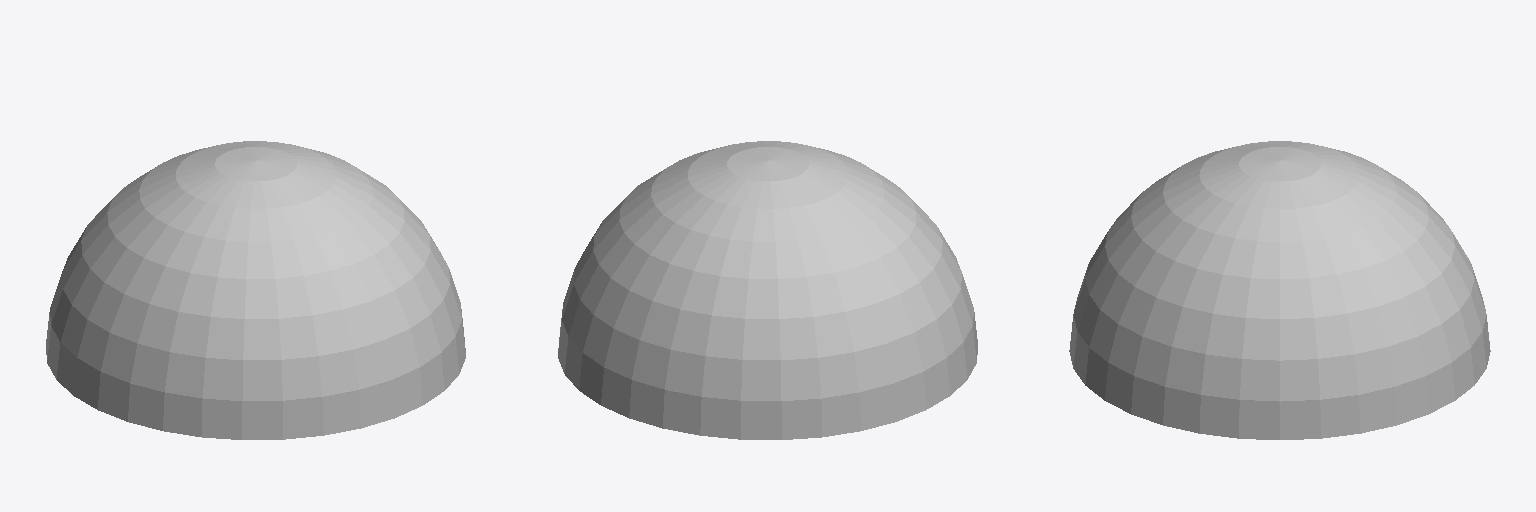
File: skydome.obj
The picture shows the model from 3 angles: view 1: azimuth 30°, elevation 25°; view 2: azimuth 150°, elevation 25°; view 3: azimuth 270°, elevation 25°; orthographic projection.
Visible parts, largest first — view 1: Sphere; view 2: Sphere; view 3: Sphere.
Part boxes in pixels (x1,y1,x2,y2): Sphere: (46, 141, 465, 439); Sphere: (558, 141, 977, 439); Sphere: (1069, 141, 1490, 439).
Bounding box in the file's own units: 2 × 1 × 2.